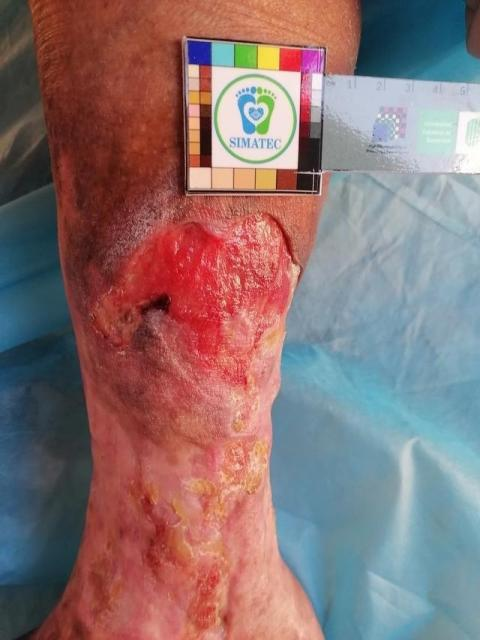wound: (80, 213, 298, 640)
